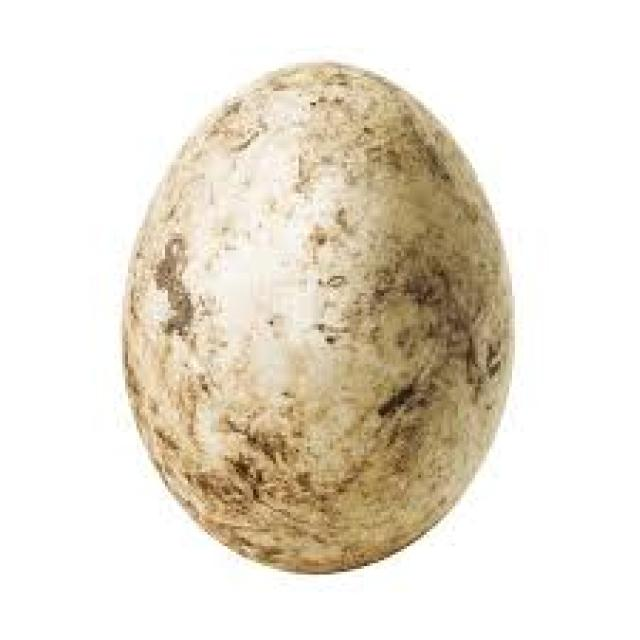Dirt Stained Egg: (112, 51, 525, 584)
